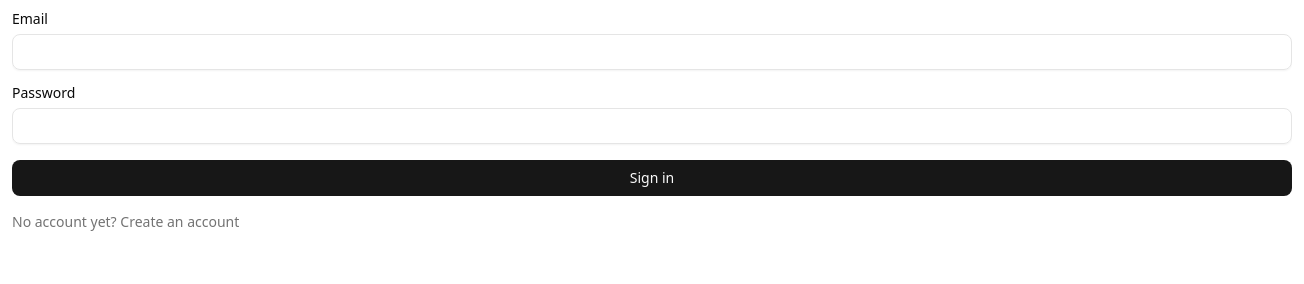
Test: LoginForm › renders an alert when the request is rejected
Type "trader@example.com" into the field labelled "Email".
click(652, 52); type("trader@example.com")  # box [12,34,1292,70]
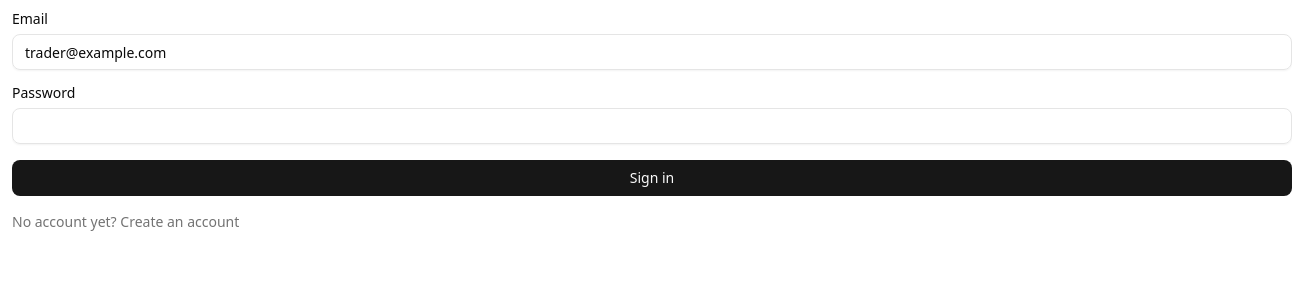
Type "wrong-password" into the password field labelled "Password".
click(652, 126); type("wrong-password")  # box [12,108,1292,144]
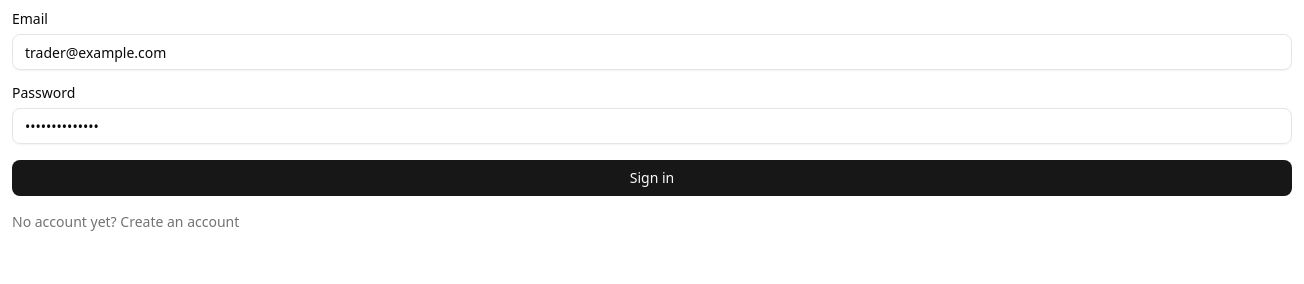
Click the button "Sign in".
click(652, 178)  # box [12,160,1292,196]
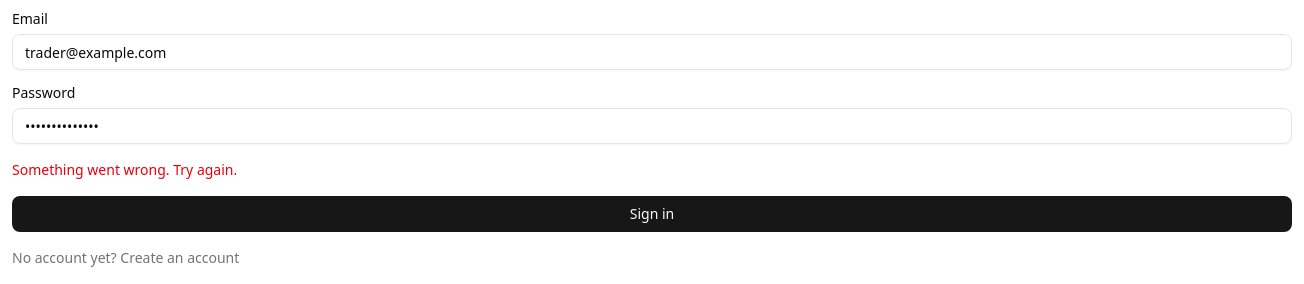
Result: the message reads "Something went wrong. Try again." at [12,160,237,179]
